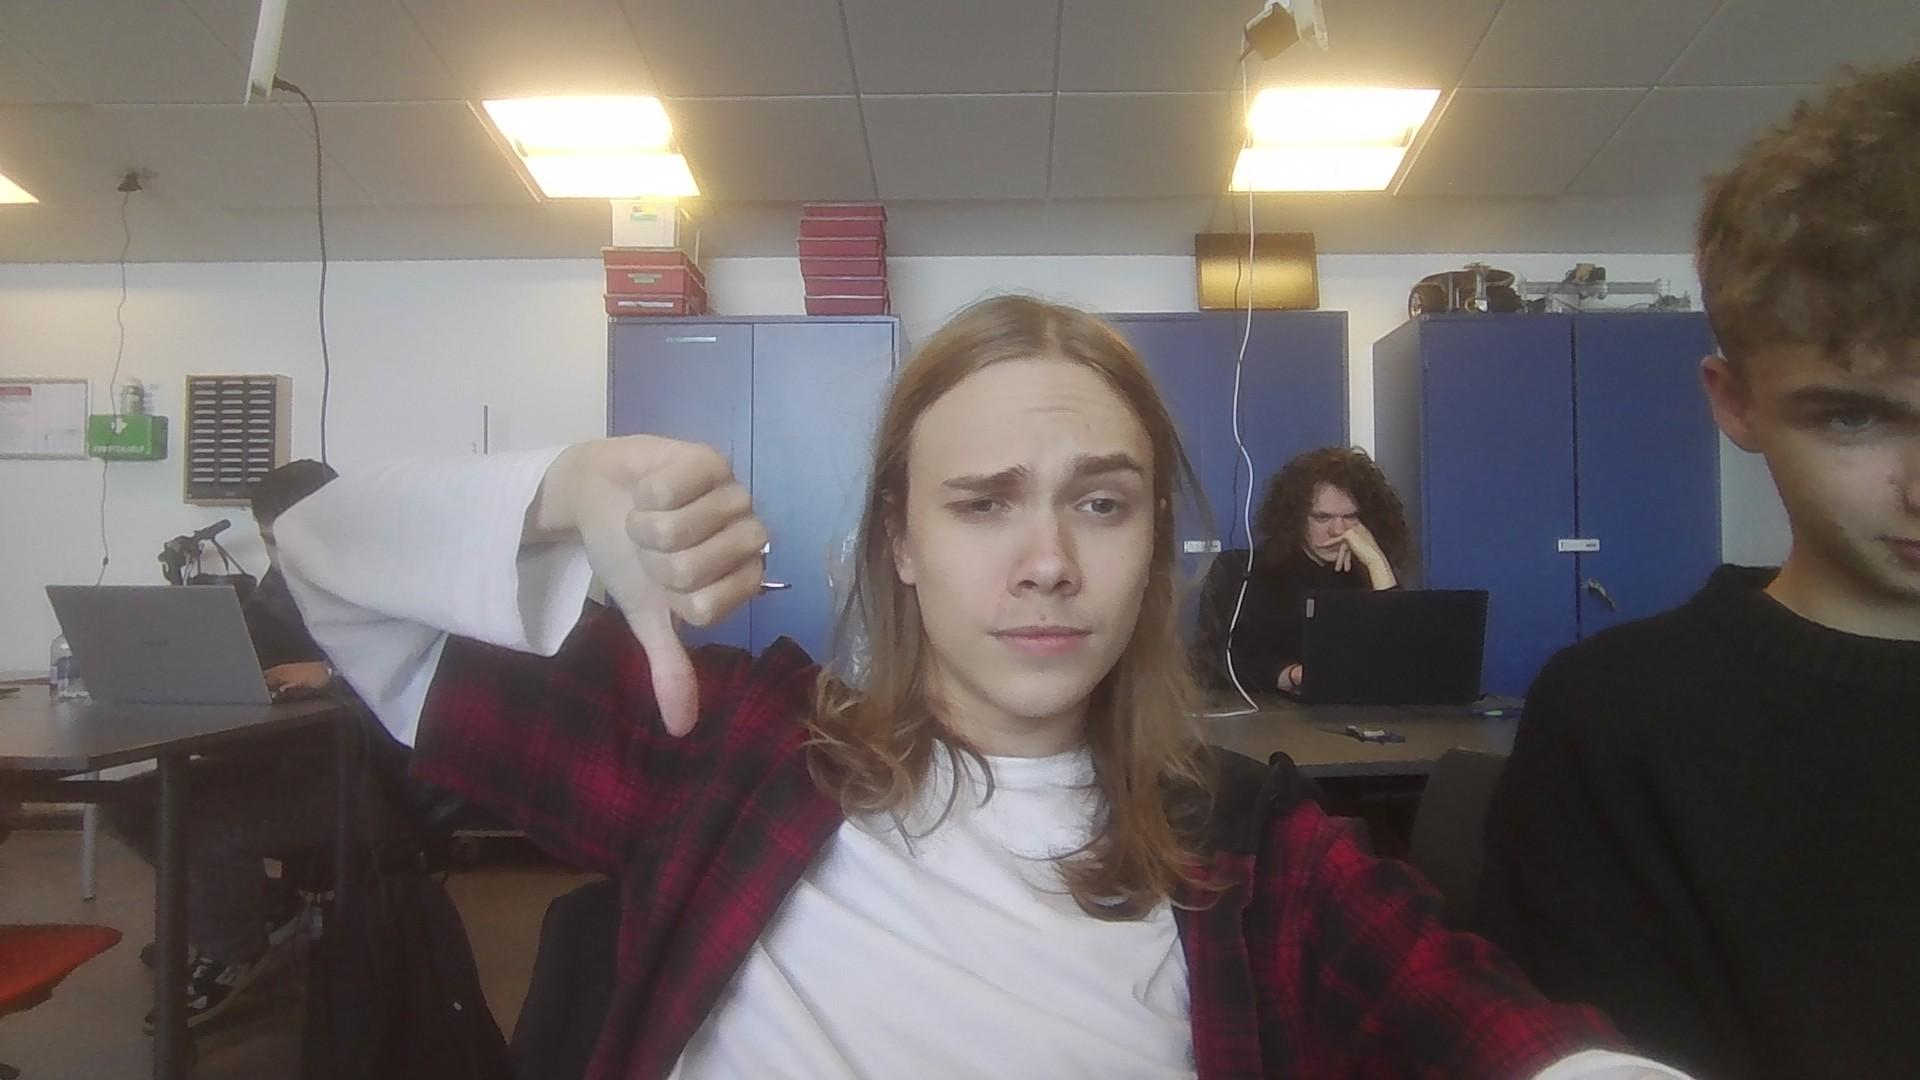thumbs down: (575, 440, 762, 728)
